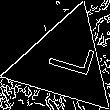L_W: (35, 40, 94, 85)
